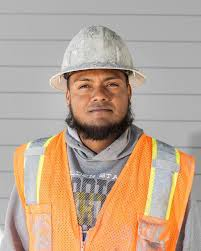Person_wearing_helmet: (44, 19, 148, 99)
